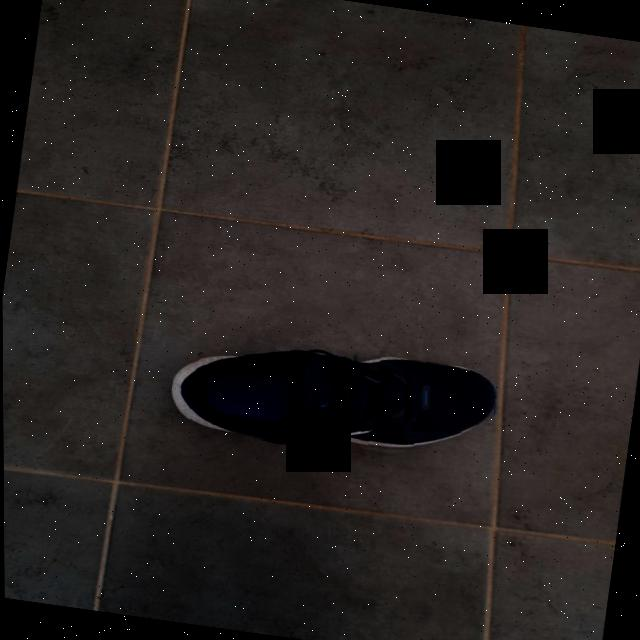shoe: (165, 327, 500, 473)
